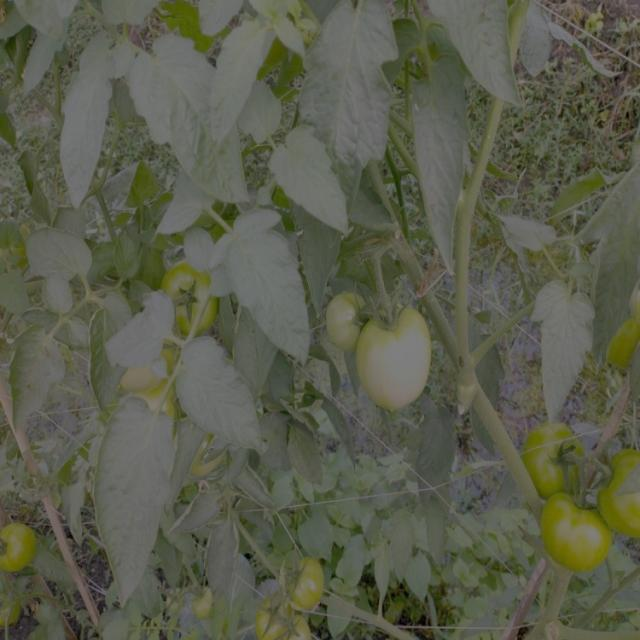tomato: (362, 307, 434, 414), (538, 489, 616, 579), (163, 255, 220, 334), (527, 417, 584, 489), (598, 447, 640, 539), (127, 366, 187, 424), (325, 284, 370, 349), (281, 552, 330, 609), (1, 520, 38, 575), (612, 314, 640, 377), (192, 434, 232, 477), (284, 610, 320, 640), (187, 582, 212, 617), (258, 605, 282, 633), (166, 586, 184, 614)
